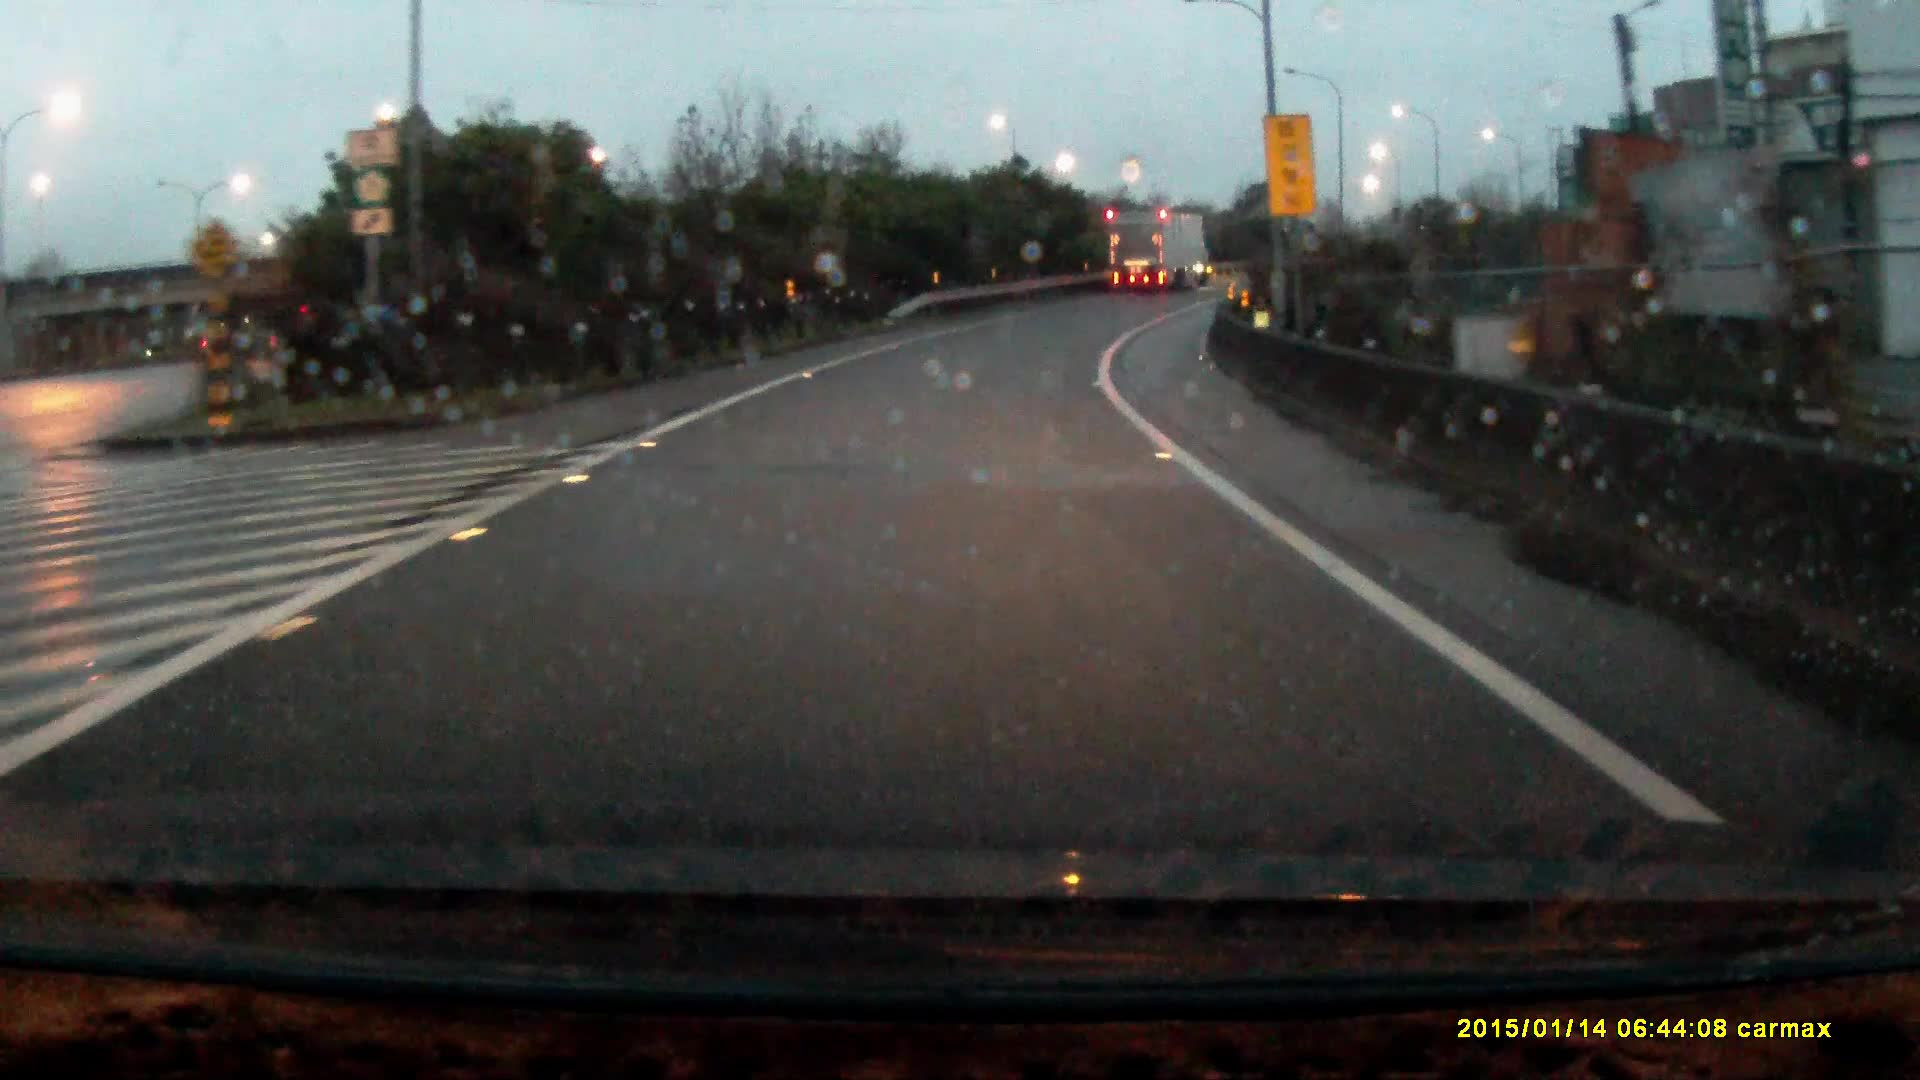vehicle: (1106, 203, 1211, 289)
